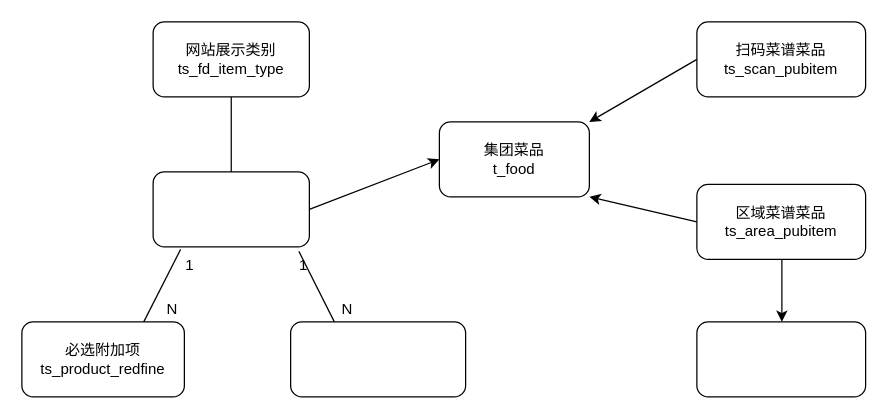
Some shapes in this 888 by 419 pixel diagram are drawn without their labels. Here are the shapes that lost their labels. From the top down, the centre of each, then its label:
the point at 230,209: 堂食菜谱菜品 ts_pubitem
the point at 377,359: 必选附加产品 ts_product_additional
the point at 781,359: 门店区域 ts_store_arear
